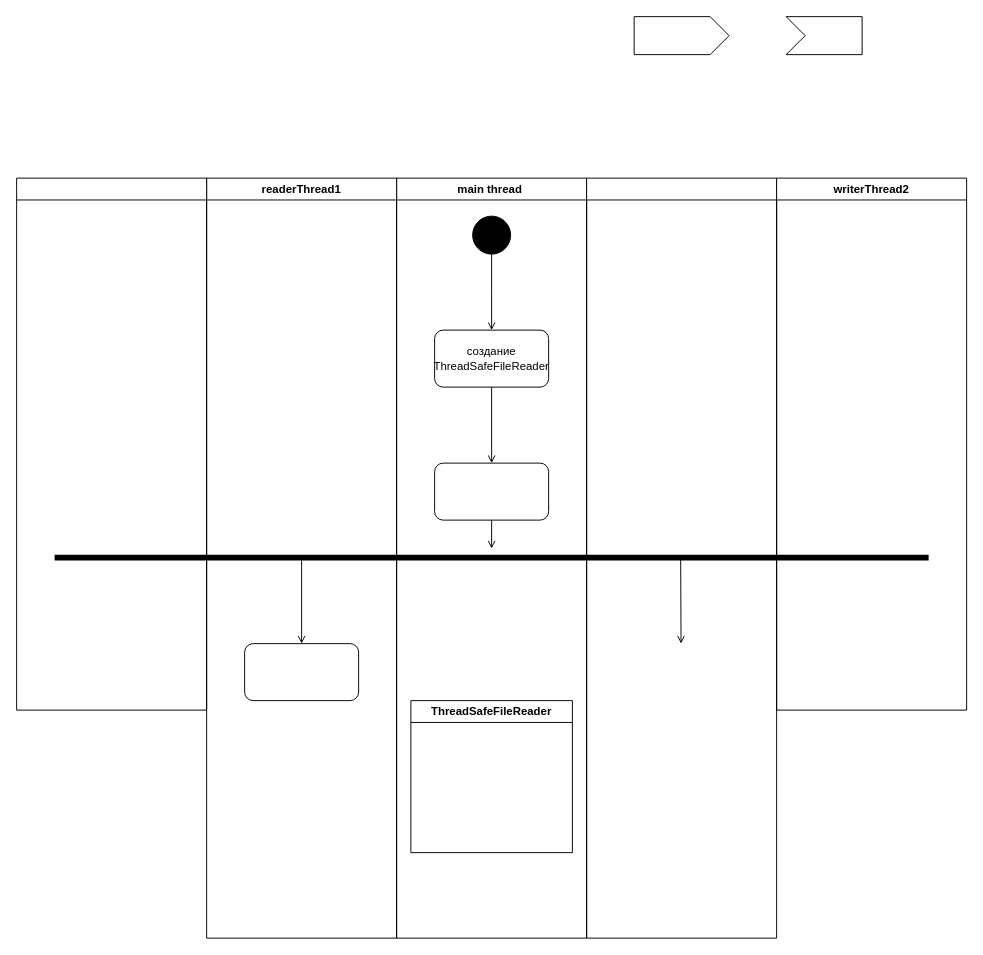
This 983x955 diagram has some shape labels left out. The shapes that lost their labels are listed below. From the top down, each one's centre as x and y in pixels, then its label:
At [111,443]: "writerThread1".
At [491,491]: "создание threadPool".
At [681,557]: "readerThread2".
